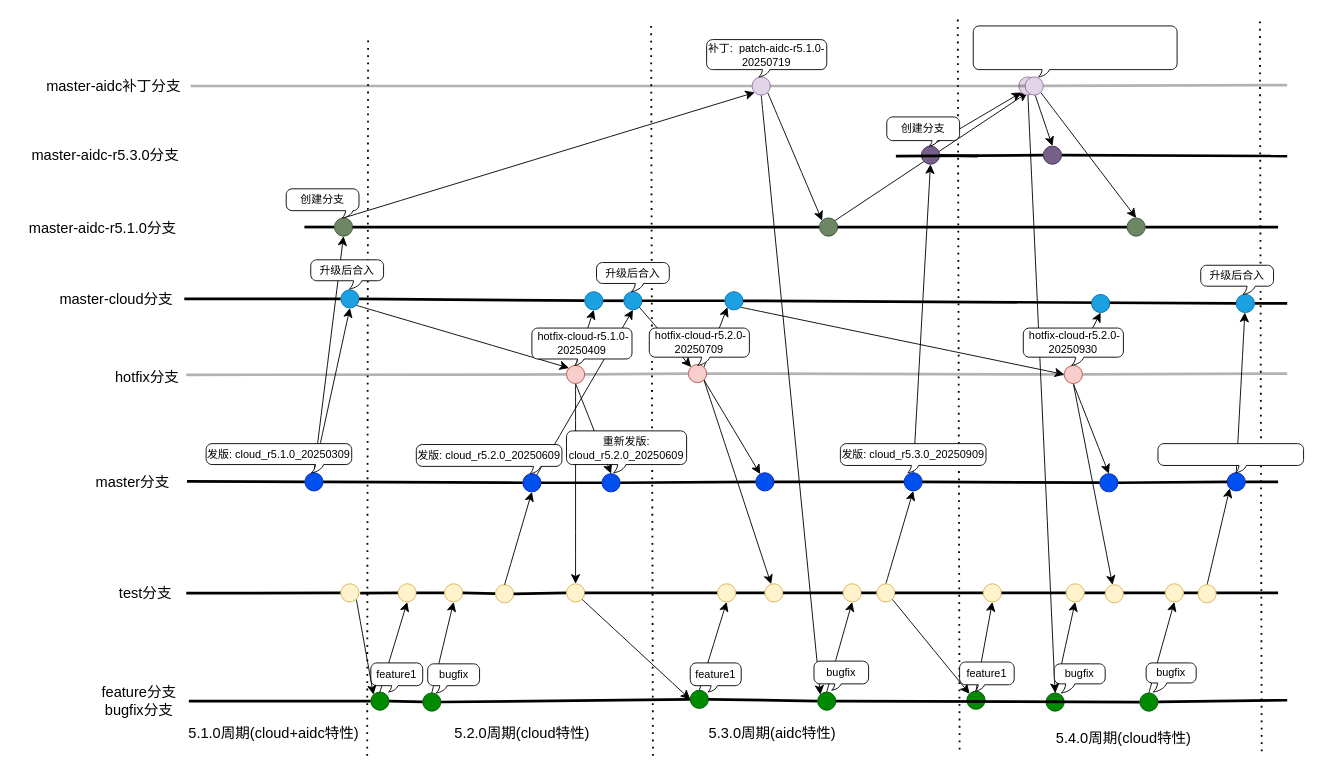
Image size: 1320x772. Some labels were removed from this diagram. The shapes that lost their labels are listed below. From the top down, each one's centre as x and y in pixels, then its label:
(1074,51): 相同问题，2个版本都计划修复 补丁1: patch-aidc-r5.3.0-20251009 补丁2: patch- aidc-r5.1.0-20251009
(1230,458): 发版: cloud_r5.4.0_20251209
